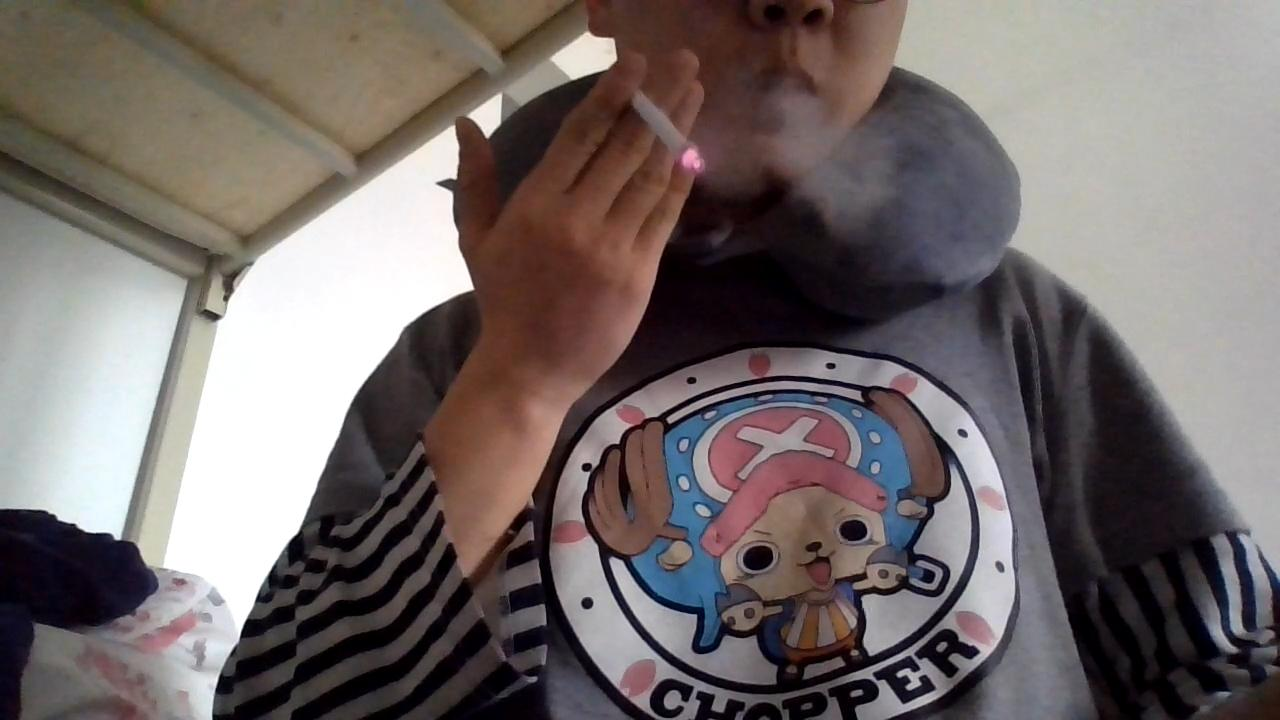smoke: (774, 102, 889, 215)
